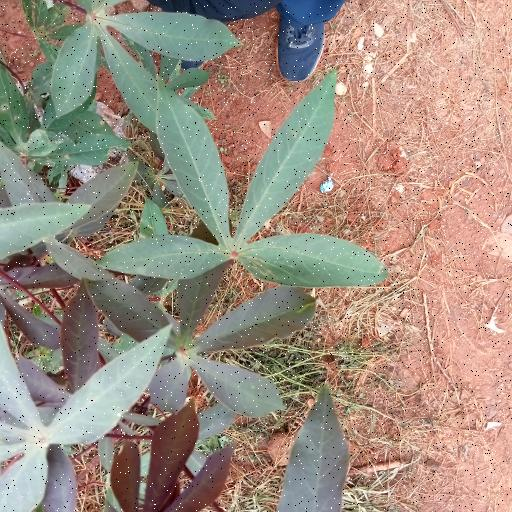Cassava_Healthy: (104, 70, 392, 287), (48, 10, 232, 116)
